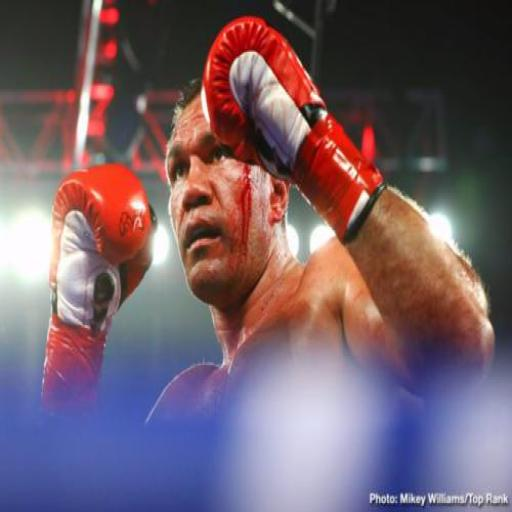boxing: (49, 44, 512, 512)
